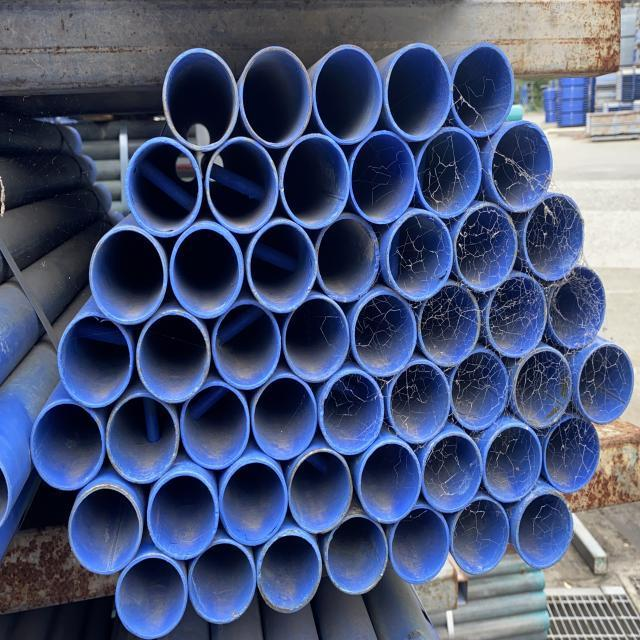pipe: (162, 48, 243, 152), (234, 45, 316, 147), (89, 227, 170, 327), (125, 138, 204, 240), (53, 311, 136, 406), (309, 44, 385, 145), (445, 43, 524, 137), (135, 312, 213, 405), (382, 42, 453, 144), (279, 134, 350, 234), (179, 384, 260, 471), (33, 398, 108, 491), (168, 226, 244, 317), (205, 138, 276, 234), (346, 132, 416, 229), (384, 207, 458, 298), (247, 219, 318, 312), (105, 393, 178, 482), (148, 469, 220, 559), (413, 279, 482, 372), (211, 302, 283, 389), (71, 488, 143, 575), (489, 119, 556, 212), (116, 554, 188, 640), (284, 299, 352, 388), (351, 291, 423, 375), (316, 371, 386, 457), (316, 210, 382, 300), (252, 376, 318, 466), (455, 198, 520, 289), (417, 130, 483, 217), (219, 460, 287, 544), (187, 543, 257, 624), (358, 440, 423, 527), (523, 190, 586, 279), (288, 449, 353, 534), (255, 532, 322, 613), (424, 431, 486, 516), (323, 515, 389, 594), (513, 347, 575, 431), (488, 272, 549, 357), (387, 362, 450, 444), (389, 502, 450, 585), (485, 425, 545, 507), (577, 342, 633, 429), (449, 352, 509, 433), (450, 496, 510, 577), (550, 267, 608, 350), (544, 411, 600, 494), (516, 493, 574, 571)
